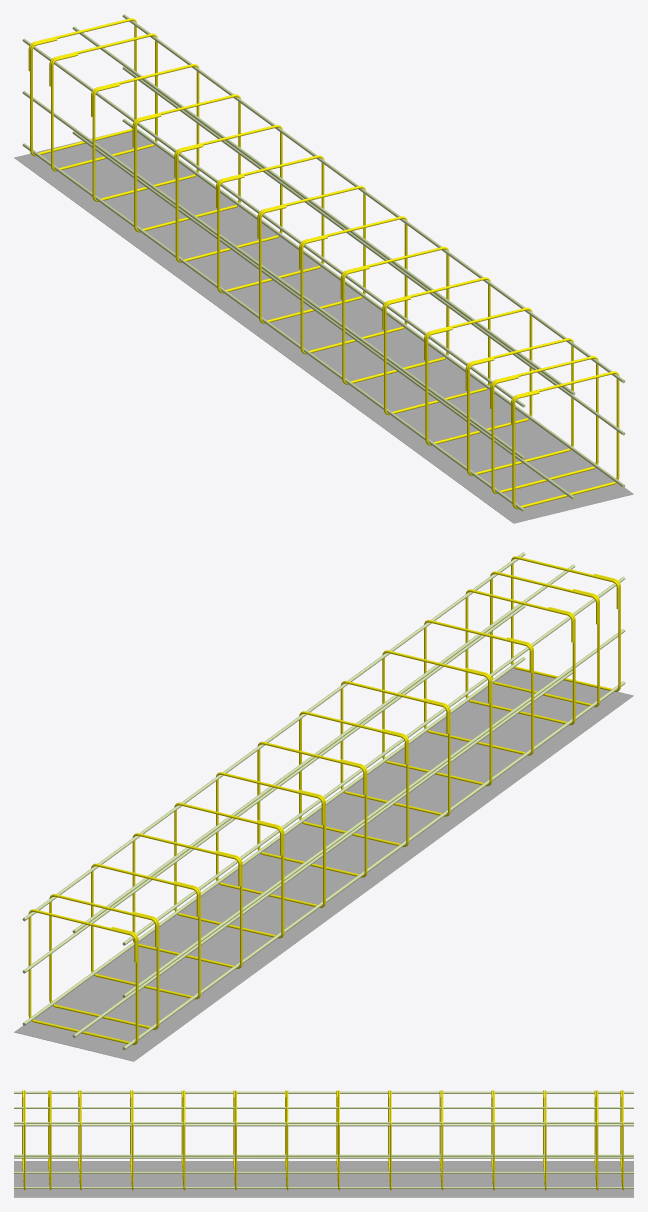
The model's file is outsrt.glb.
3 views of the same model, one above another, from view 1: azimuth 30°, elevation 25°; view 2: azimuth 150°, elevation 25°; view 3: azimuth 270°, elevation 25° (orthographic). The views are drawn at different scales.
Visible parts, largest first — view 1: COLUMN, Body (×22); view 2: COLUMN, Body (×22); view 3: COLUMN, Body (×22).
Boxes of the visible parts, x1=… form: COLUMN: x1=14, y1=131, x2=633, y2=523; Body (×22): x1=22, y1=14, x2=625, y2=512; COLUMN: x1=14, y1=668, x2=633, y2=1061; Body (×22): x1=22, y1=552, x2=625, y2=1050; COLUMN: x1=14, y1=1161, x2=633, y2=1197; Body (×22): x1=14, y1=1090, x2=633, y2=1190.
Bounding box in the file's own units: 0.5 × 0.475 × 3.6.
